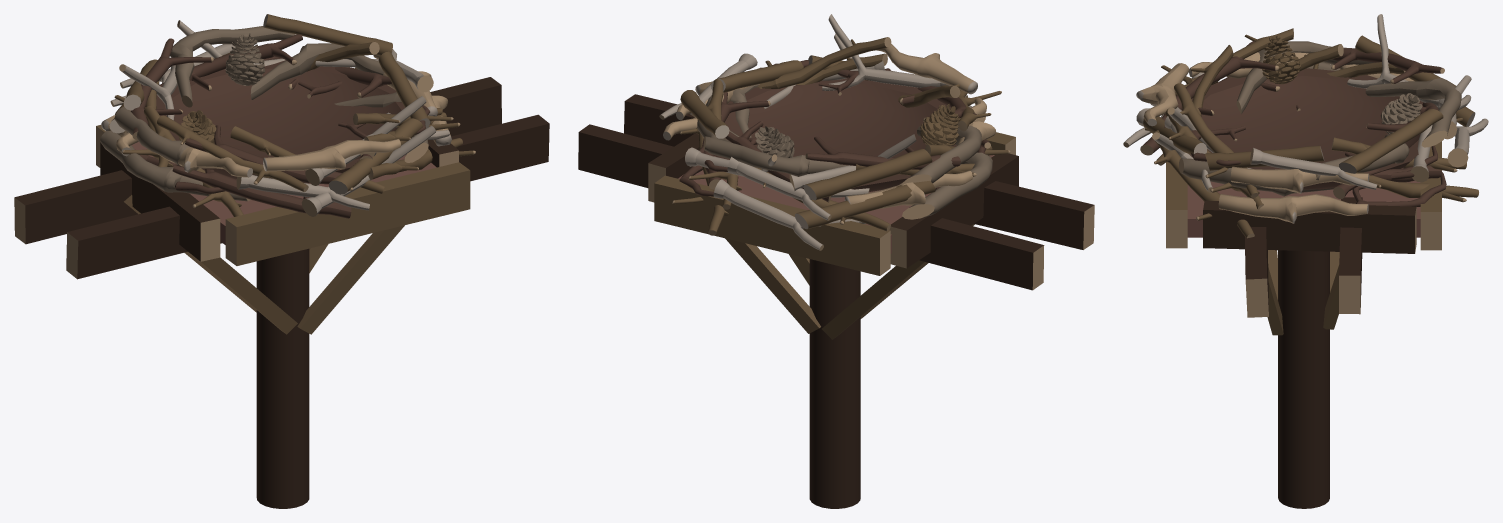
The model's file is NestCartoon.fbx.
The picture shows the model from 3 angles, left to right: view 1: azimuth 30°, elevation 25°; view 2: azimuth 150°, elevation 25°; view 3: azimuth 270°, elevation 25°; orthographic projection. The views are drawn at different scales.
Visible parts, largest first — view 1: polySurface83, pCylinder30, pSphere1, pCube5, pCube1, pCube2, pCube3, pCube7, pCube4, pCube6; view 2: polySurface83, pCylinder30, pSphere1, pCube5, pCube2, pCube1, pCube3, pCube7, pCube4, pCube6; view 3: polySurface83, pCylinder30, pSphere1, pCube6, pCube5, pCube4, pCube2, pCube1, pCube3.
Part boxes in pixels (bbox=[...]): polySurface83: bbox=[100, 14, 475, 218]; pCylinder30: bbox=[256, 248, 309, 508]; pSphere1: bbox=[156, 60, 404, 182]; pCube5: bbox=[96, 125, 470, 265]; pCube1: bbox=[66, 114, 549, 279]; pCube2: bbox=[14, 77, 501, 244]; pCube3: bbox=[124, 195, 404, 334]; pCube7: bbox=[100, 142, 220, 261]; pCube4: bbox=[132, 141, 436, 244]; pCube6: bbox=[428, 140, 458, 167]; polySurface83: bbox=[659, 14, 1010, 250]; pCylinder30: bbox=[809, 259, 860, 508]; pSphere1: bbox=[714, 78, 956, 191]; pCube5: bbox=[654, 132, 1015, 275]; pCube2: bbox=[578, 124, 1044, 290]; pCube1: bbox=[624, 94, 1094, 249]; pCube3: bbox=[725, 224, 974, 339]; pCube7: bbox=[889, 153, 1018, 268]; pCube4: bbox=[678, 155, 994, 253]; pCube6: bbox=[648, 133, 699, 202]; polySurface83: bbox=[1123, 14, 1488, 238]; pCylinder30: bbox=[1278, 250, 1329, 508]; pSphere1: bbox=[1181, 68, 1423, 189]; pCube6: bbox=[1203, 200, 1416, 253]; pCube5: bbox=[1166, 141, 1441, 250]; pCube4: bbox=[1187, 180, 1420, 237]; pCube2: bbox=[1339, 197, 1362, 314]; pCube1: bbox=[1244, 227, 1268, 317]; pCube3: bbox=[1267, 250, 1339, 335].
Bounding box in the file's own units: 13.88 × 12.16 × 9.45.
